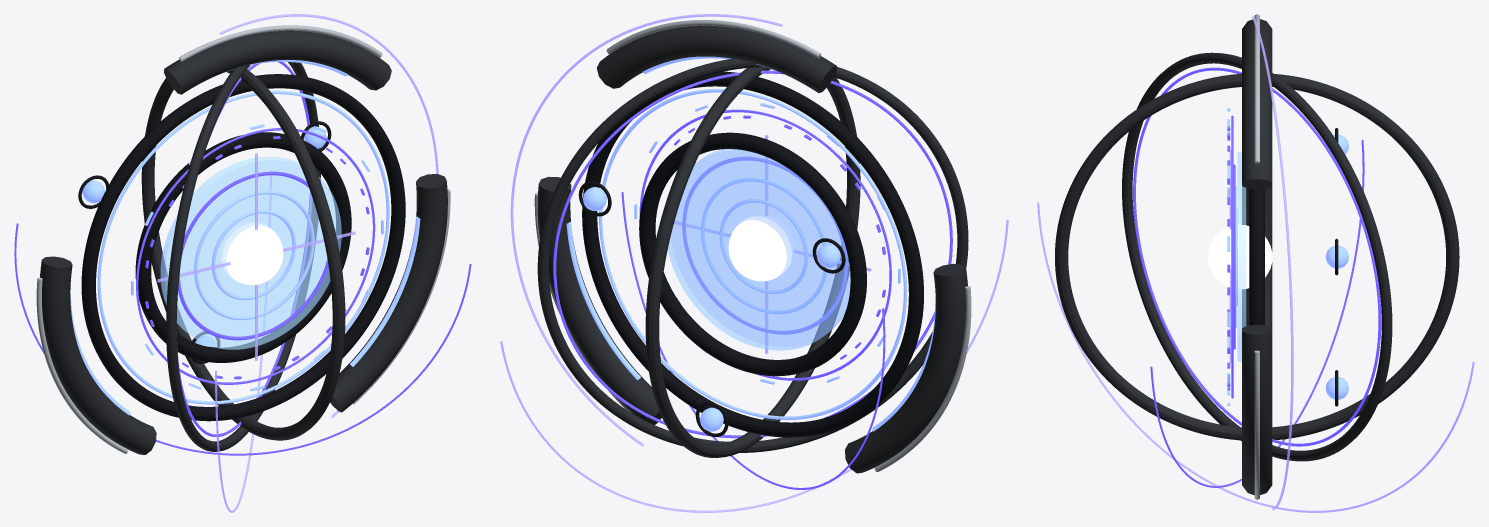
File: TeleportBall_BaseModel.glb
3 renders of one model, left to right at view 1: azimuth 30°, elevation 25°; view 2: azimuth 150°, elevation 25°; view 3: azimuth 270°, elevation 25°, orthographic. The views are drawn at different scales.
Visible parts, largest first — view 1: Core_PortalAperture_GlassLens, GyroRing_FrontPortalFrame_BlackMetal, GyroRing_SidePitchFrame_BlackMetal, Core_DarkApertureOuterCollar, CBracket_FoldingPortalGuard_02, CBracket_FoldingPortalGuard_00, CBracket_FoldingPortalGuard_01, GyroRing_ObliqueSpatialFrame_BlackMetal, GyroRing_InnerIndigoEnergyTrack, Core_Singularity_WhiteBlueEnergyPoint, Core_PortalConcentricIndigoRing_03, Core_PortalConcentricIndigoRing_02 (+10 smaller); view 2: Core_PortalAperture_GlassLens, GyroRing_FrontPortalFrame_BlackMetal, GyroRing_ObliqueSpatialFrame_BlackMetal, Core_DarkApertureOuterCollar, GyroRing_SidePitchFrame_BlackMetal, CBracket_FoldingPortalGuard_00, CBracket_FoldingPortalGuard_01, CBracket_FoldingPortalGuard_02, GyroRing_InnerIndigoEnergyTrack, Core_Singularity_WhiteBlueEnergyPoint, GyroRing_ObliqueIndigoEnergyTrack, Hologram_OrbitArc_BlueViolet_00 (+9 smaller); view 3: GyroRing_SidePitchFrame_BlackMetal, GyroRing_ObliqueSpatialFrame_BlackMetal, CBracket_FoldingPortalGuard_02, CBracket_FoldingPortalGuard_00, GyroRing_ObliqueIndigoEnergyTrack, Core_Singularity_WhiteBlueEnergyPoint, GyroRing_FrontPortalFrame_BlackMetal, Hologram_OrbitArc_BlueViolet_01, Core_PortalAperture_GlassLens, Hologram_OrbitArc_BlueViolet_00, CBracket_FoldingPortalGuard_01, Hologram_OrbitArc_BlueViolet_02 (+4 smaller).
Boxes of the visible parts, bbox=[...] form: Core_PortalAperture_GlassLens: bbox=[160, 156, 341, 349]; GyroRing_FrontPortalFrame_BlackMetal: bbox=[81, 74, 405, 421]; GyroRing_SidePitchFrame_BlackMetal: bbox=[141, 69, 345, 440]; Core_DarkApertureOuterCollar: bbox=[135, 132, 351, 362]; CBracket_FoldingPortalGuard_02: bbox=[330, 174, 447, 412]; CBracket_FoldingPortalGuard_00: bbox=[164, 30, 391, 94]; CBracket_FoldingPortalGuard_01: bbox=[40, 256, 156, 454]; GyroRing_ObliqueSpatialFrame_BlackMetal: bbox=[166, 62, 320, 451]; GyroRing_InnerIndigoEnergyTrack: bbox=[97, 90, 389, 404]; Core_Singularity_WhiteBlueEnergyPoint: bbox=[220, 222, 283, 285]; Core_PortalConcentricIndigoRing_03: bbox=[136, 128, 375, 384]; Core_PortalConcentricIndigoRing_02: bbox=[178, 171, 328, 340]; Core_PortalAperture_GlassLens: bbox=[667, 149, 850, 350]; GyroRing_FrontPortalFrame_BlackMetal: bbox=[582, 71, 923, 437]; GyroRing_ObliqueSpatialFrame_BlackMetal: bbox=[537, 58, 968, 452]; Core_DarkApertureOuterCollar: bbox=[639, 132, 866, 376]; GyroRing_SidePitchFrame_BlackMetal: bbox=[645, 67, 860, 457]; CBracket_FoldingPortalGuard_00: bbox=[597, 25, 836, 92]; CBracket_FoldingPortalGuard_01: bbox=[845, 263, 967, 473]; CBracket_FoldingPortalGuard_02: bbox=[537, 176, 661, 424]; GyroRing_InnerIndigoEnergyTrack: bbox=[599, 89, 906, 419]; Core_Singularity_WhiteBlueEnergyPoint: bbox=[728, 215, 794, 281]; GyroRing_ObliqueIndigoEnergyTrack: bbox=[553, 70, 952, 438]; Hologram_OrbitArc_BlueViolet_00: bbox=[510, 14, 782, 446]; GyroRing_SidePitchFrame_BlackMetal: bbox=[1055, 73, 1459, 440]; GyroRing_ObliqueSpatialFrame_BlackMetal: bbox=[1122, 52, 1392, 461]; CBracket_FoldingPortalGuard_02: bbox=[1242, 324, 1272, 495]; CBracket_FoldingPortalGuard_00: bbox=[1242, 19, 1272, 189]; GyroRing_ObliqueIndigoEnergyTrack: bbox=[1133, 67, 1381, 446]; Core_Singularity_WhiteBlueEnergyPoint: bbox=[1208, 224, 1272, 289]; GyroRing_FrontPortalFrame_BlackMetal: bbox=[1250, 189, 1264, 325]; Hologram_OrbitArc_BlueViolet_01: bbox=[1037, 202, 1474, 512]; Core_PortalAperture_GlassLens: bbox=[1237, 152, 1246, 361]; Hologram_OrbitArc_BlueViolet_00: bbox=[1252, 16, 1293, 510]; CBracket_FoldingPortalGuard_01: bbox=[1242, 186, 1272, 327]; Hologram_OrbitArc_BlueViolet_02: bbox=[1150, 139, 1364, 487].
Bounding box in the file's own units: 1.61 × 1.71 × 1.42.
